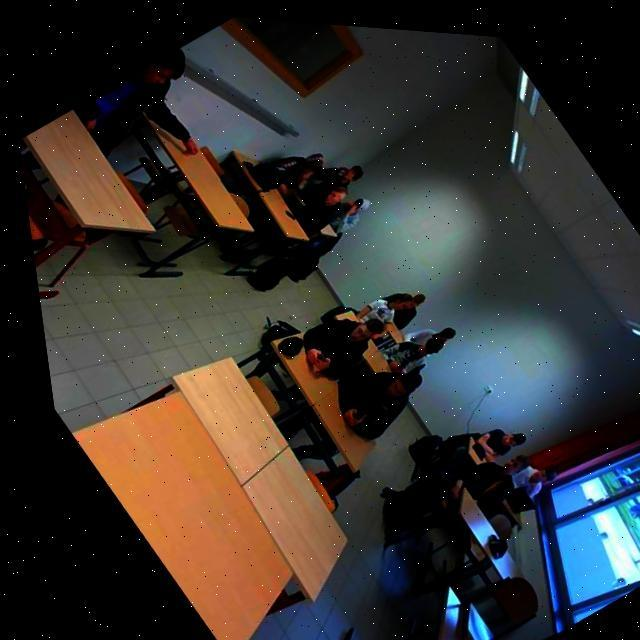phone_use: (277, 305, 385, 377), (337, 359, 420, 437), (362, 321, 453, 373)
